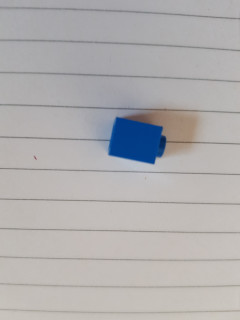1x1 blue: (107, 116, 167, 165)
